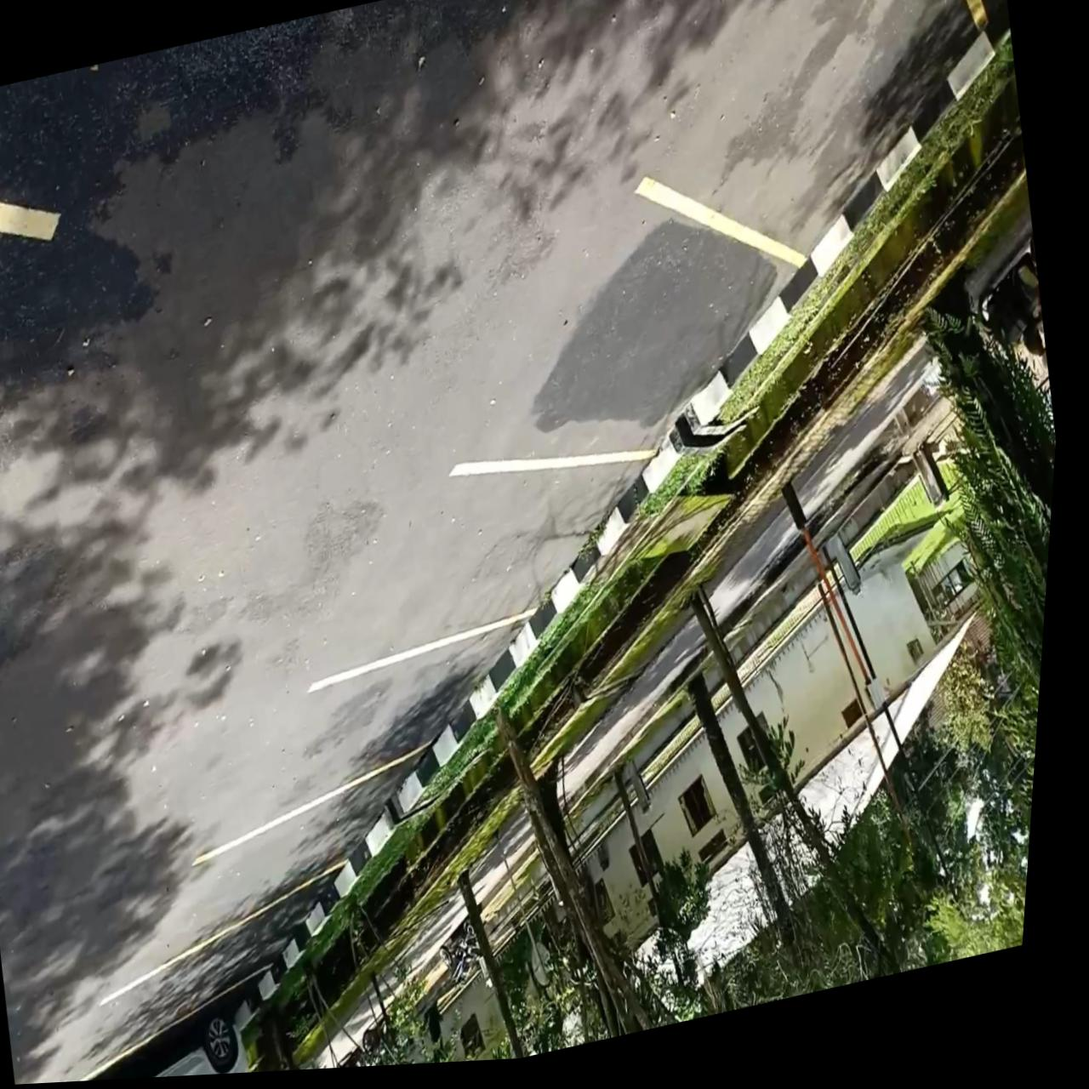empty: (464, 189, 799, 470), (647, 0, 981, 260), (199, 613, 532, 860), (109, 745, 430, 999), (315, 455, 653, 686), (51, 864, 343, 1083)
